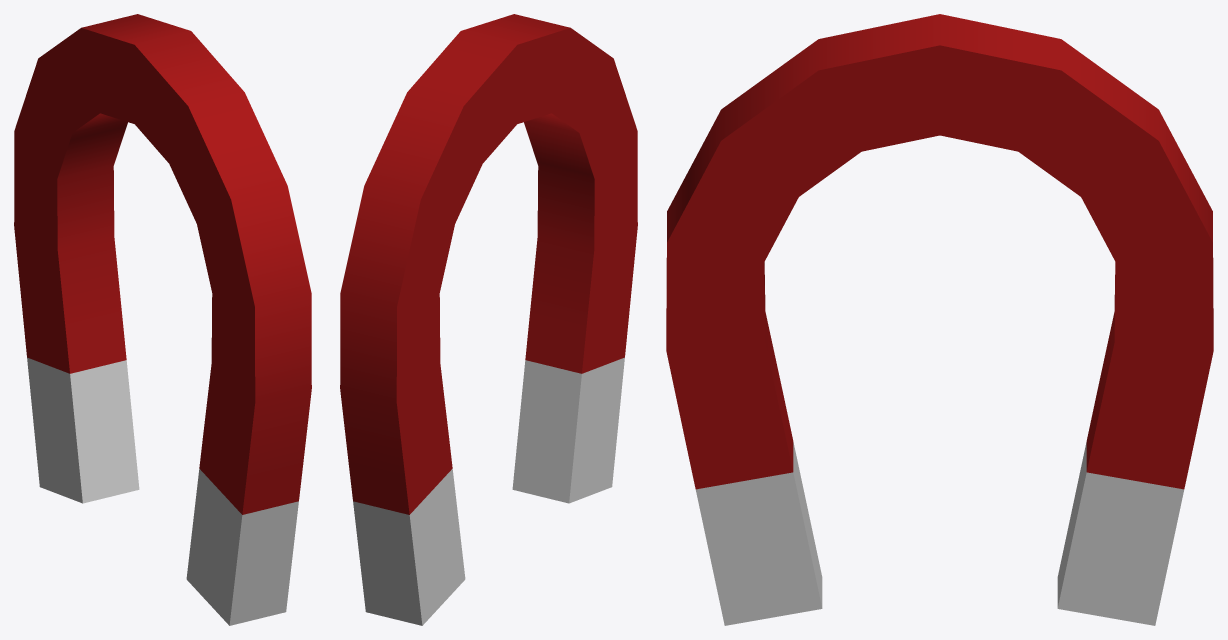
Rendered from Power_Magnet.FBX.
3 views of the same model, side by side, from view 1: azimuth 30°, elevation 25°; view 2: azimuth 150°, elevation 25°; view 3: azimuth 270°, elevation 25° (orthographic). The views are drawn at different scales.
Parts seen in each view (by area): view 1: Power_Magnet; view 2: Power_Magnet; view 3: Power_Magnet.
Part boxes in pixels (x1,y1,x2,y2): Power_Magnet: [14, 14, 311, 625]; Power_Magnet: [340, 14, 637, 625]; Power_Magnet: [666, 14, 1213, 625].
Size of the model in its own units: 2.02 by 17.46 by 14.91.
